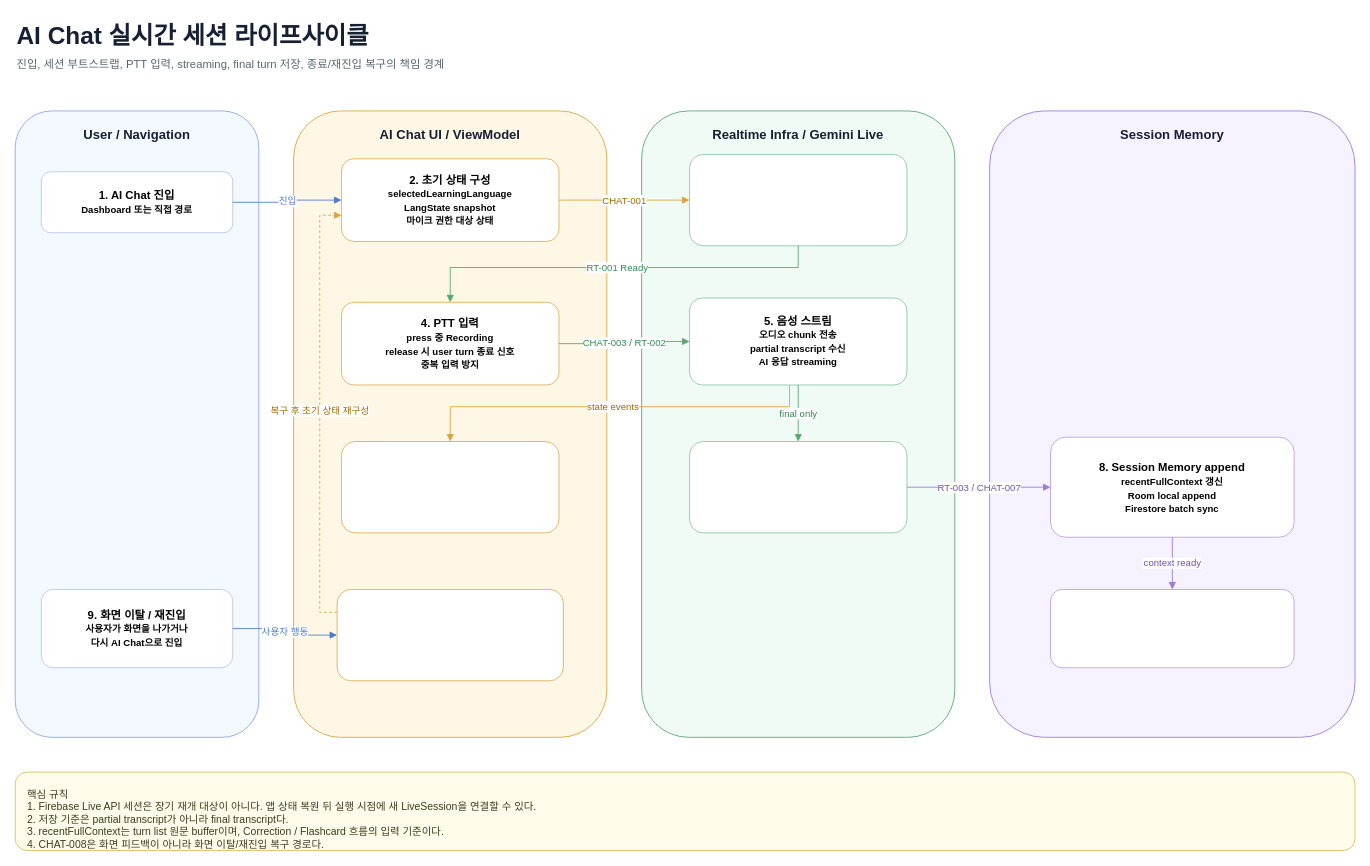
Image size: 1370x866. Some labels were removed from this diagram. Each missing label, with the centre of its shape:
"10. CHAT-008 종료 및 재진입 복구 녹음/재생 정리 저장 중 상태 보호 복구 실패 시 새 LiveSession 전환" goes at (x=449, y=635).
"3. 세션 부트스트랩 activeSessionId 확인 같은 언어 앱 상태 복원 시도 실패 시 새 LiveSession 생성" goes at (x=798, y=200).
"6. 화면 피드백 Recording / Thinking / Speaking 중앙 비주얼 상태 반영 자막 On이면 마지막 확정 턴 표시" goes at (x=450, y=487).
"7. final transcript 확정 partial stream은 저장하지 않음 확정 user / assistant turn만 저장 입력" goes at (x=798, y=487).
"Correction / Flashcard 준비 후속 학습 흐름은 Session Memory의 확정 turn을 참조" goes at (x=1172, y=628).
